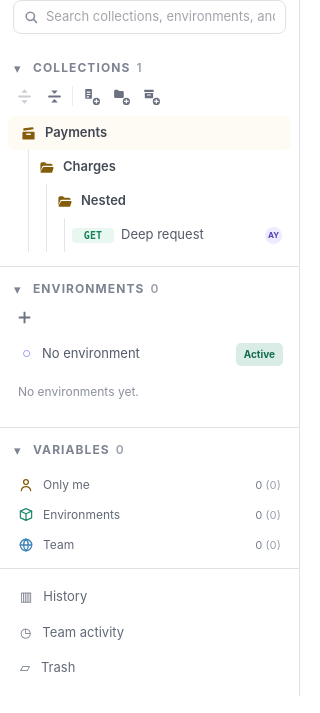
Test: WorkspaceTree expand/collapse all › marks only collapsed parents of a viewed child, so open folders stay uncluttered
Expected: the picture named "Viewing now: Ayse Yilmaz" is shown, x1=264 y1=226 x2=283 y2=244
Click the button named "Collapse Nested" at (64,201), box x1=54 y1=187 x2=74 y2=215
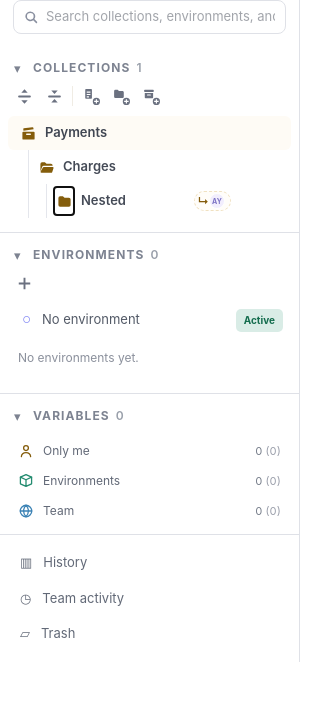
Expected: the picture named "Viewing inside: Ayse Yilmaz → Deep request" is shown, x1=194 y1=191 x2=231 y2=211
Click the button named "Collapse all" at (54,96), box x1=40 y1=82 x2=68 y2=110
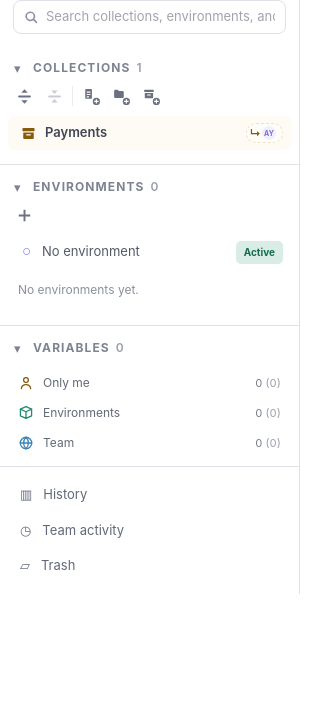
Expected: the picture named "Viewing inside: Ayse Yilmaz → Charges / Nested / Deep request" is shown, x1=246 y1=123 x2=283 y2=143
